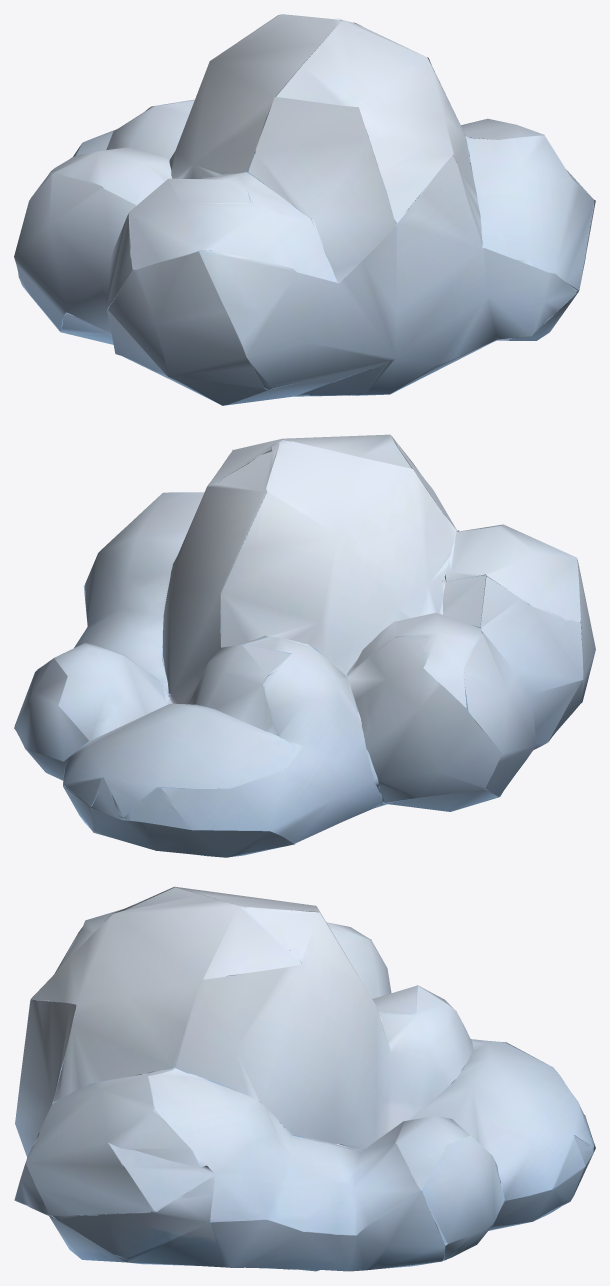
File: cloud_gen_a.glb
The picture shows the model from 3 angles, top to bottom: view 1: azimuth 30°, elevation 25°; view 2: azimuth 150°, elevation 25°; view 3: azimuth 270°, elevation 25°; orthographic projection.
Visible parts, largest first — view 1: cloud_gen; view 2: cloud_gen; view 3: cloud_gen.
Boxes of the visible parts, x1=… form: cloud_gen: x1=14, y1=14, x2=595, y2=405; cloud_gen: x1=14, y1=434, x2=595, y2=857; cloud_gen: x1=14, y1=886, x2=595, y2=1271.
Size of the model in its own units: 0.9792 by 0.5733 by 1.
1 material, 1 textured.
